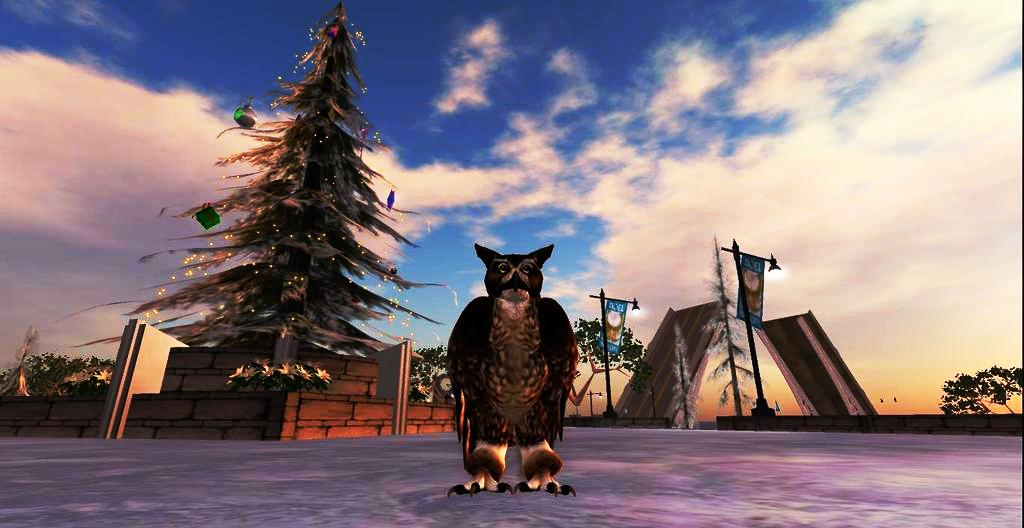Owl: (437, 242, 595, 502)
